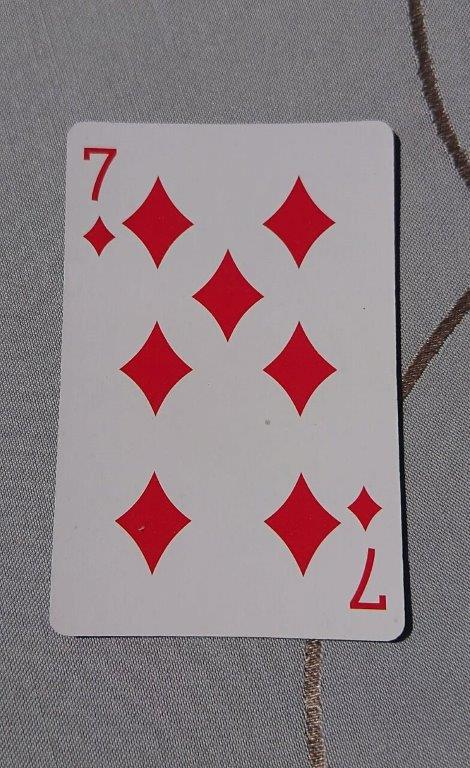7D: (47, 118, 408, 643)
